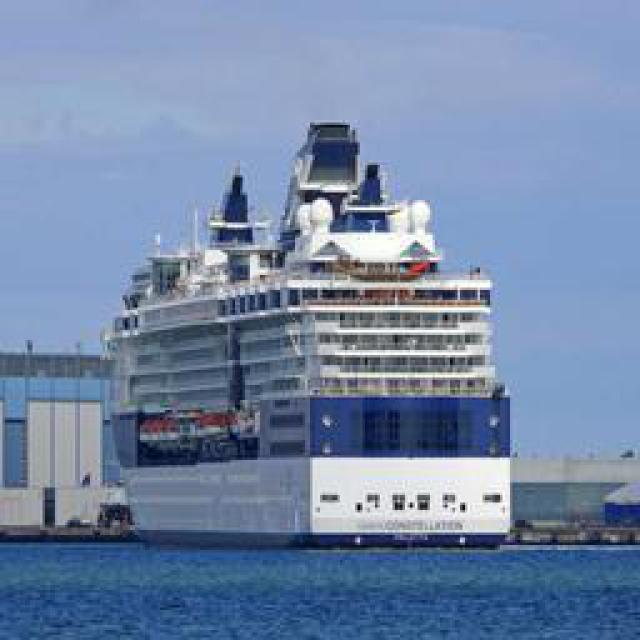Ship: (86, 128, 521, 553)
